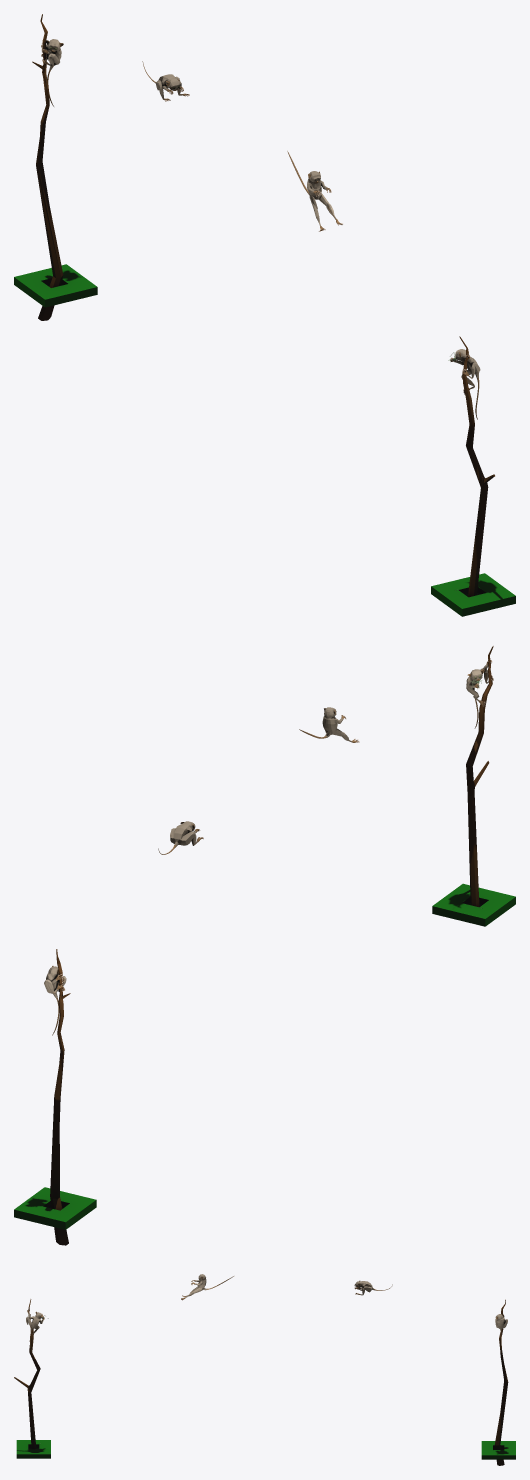
The model's file is tarsiers.glb.
The picture shows the model from 3 angles, top to bottom: view 1: azimuth 30°, elevation 25°; view 2: azimuth 150°, elevation 25°; view 3: azimuth 270°, elevation 25°; orthographic projection. The views are drawn at different scales.
Parts seen in each view (by area): view 1: Tarsiers; view 2: Tarsiers; view 3: Tarsiers.
Boxes of the visible parts, box(x1,y1,x2,y2) form: Tarsiers: box(14, 14, 515, 616); Tarsiers: box(14, 646, 515, 1245); Tarsiers: box(14, 1274, 515, 1465).
Bounding box in the file's own units: 0.3785 × 2.2 × 5.27.
Materials: 1 (1 with a texture image).
